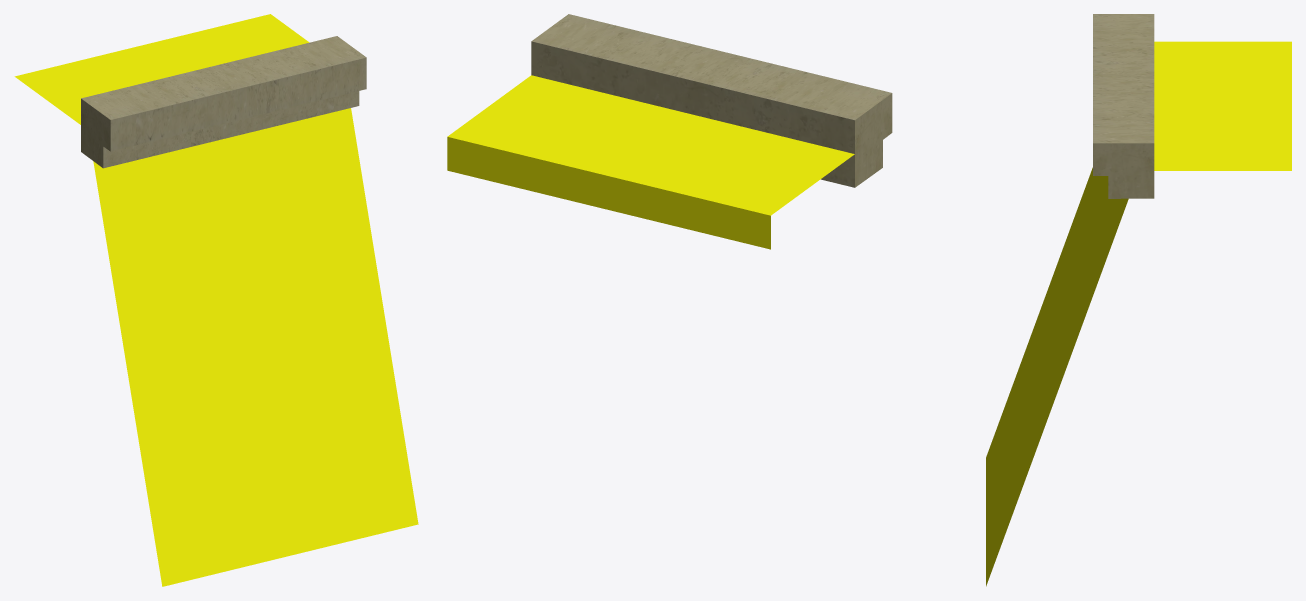
Rendered from roof-slatecornice-center.glb.
The picture shows the model from 3 angles, left to right: view 1: azimuth 30°, elevation 25°; view 2: azimuth 150°, elevation 25°; view 3: azimuth 270°, elevation 25°; orthographic projection. The views are drawn at different scales.
Parts seen in each view (by area): view 1: Roof_SlateCornice_Center; view 2: Roof_SlateCornice_Center; view 3: Roof_SlateCornice_Center.
Part boxes in pixels (<box>): Roof_SlateCornice_Center: <box>14,14,418,586</box>; Roof_SlateCornice_Center: <box>447,14,892,249</box>; Roof_SlateCornice_Center: <box>986,14,1291,586</box>.
Bounding box in the file's own units: 2 × 3.2 × 2.
3 materials, 1 textured.
